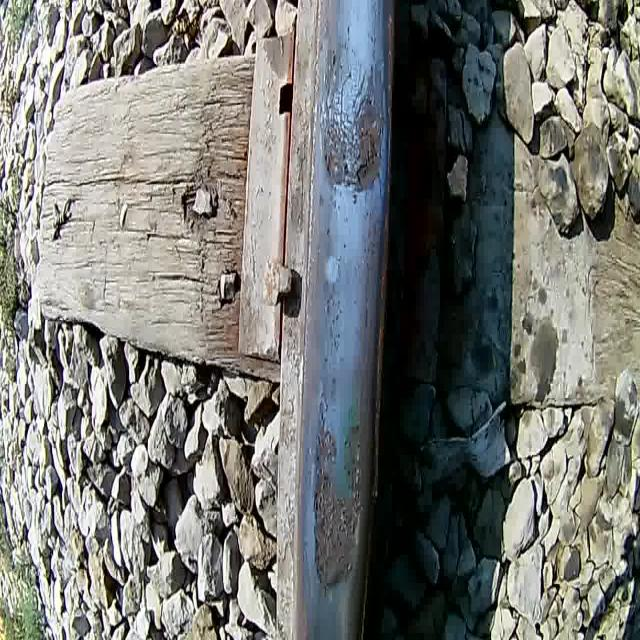Cracks: (318, 51, 368, 139), (361, 266, 372, 334)
Spallings: (310, 389, 364, 549), (318, 144, 354, 190), (354, 140, 382, 197)
Squats: (316, 15, 393, 212), (308, 379, 366, 597), (314, 217, 353, 374)
